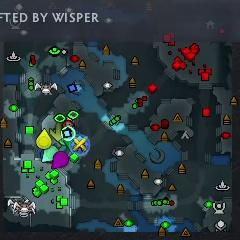Other: (71, 136, 91, 155), (60, 126, 76, 141)
p2: (42, 145, 59, 164)
p3: (52, 151, 69, 170)
p4: (35, 128, 52, 151)
x2: (49, 121, 65, 142)
x3: (58, 145, 67, 152)
